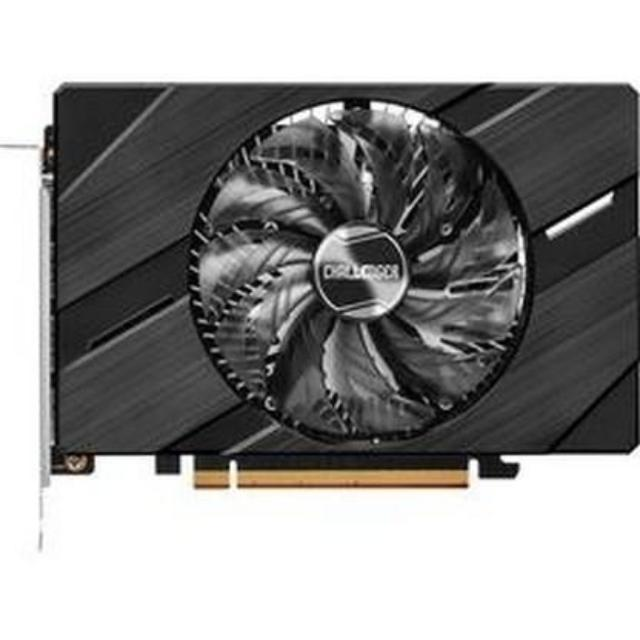GPU: (32, 72, 640, 492)
